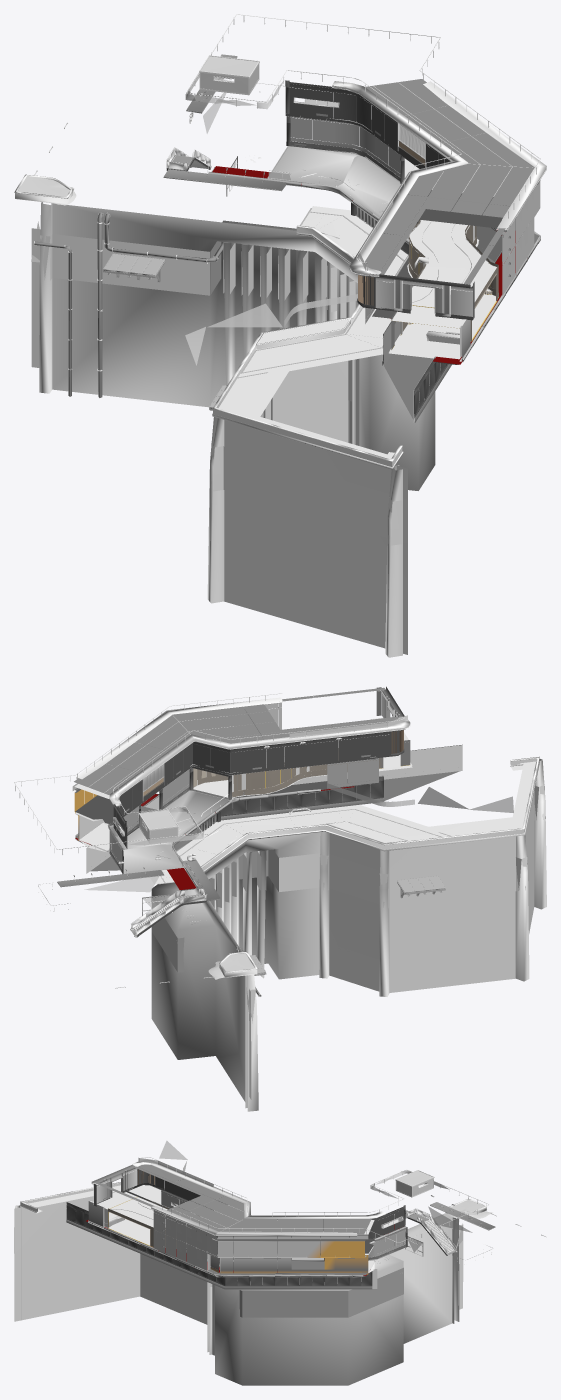
File: cell_82_54.fbx
The picture shows the model from 3 angles, top to bottom: view 1: azimuth 30°, elevation 25°; view 2: azimuth 150°, elevation 25°; view 3: azimuth 270°, elevation 25°; orthographic projection. The views are drawn at different scales.
Parts seen in each view (by area): view 1: SM_H_Building_FutureTech_Dock_03a.mo, SM_H_Building_FutureTech_Dock_06a.mo, SM_H_Building_FutureTech_Dock_03_decal.mo, SM_H_Building_FutureTech_Dock_03.mo, SM_H_Building_FutureTech_Dock_06a_InterWall_02.mo, SM_H_Building_FutureTech_Dock_06c.mo, SM_H_Building_FutureTech_Dock_06a_01.mo, SM_H_Building_FutureTech_Dock_Pipe_04.mo, SM_H_Building_FutureTech_Dock_06d.mo, SM_H_Building_FutureTech_Dock_Rail_01.mo, SM_H_Building_FutureTech_Dock_03b.mo, SM_H_Building_FutureTech_Dock_01a.mo (+3 smaller); view 2: SM_H_Building_FutureTech_Dock_03a.mo, SM_H_Building_FutureTech_Dock_06a.mo, SM_H_Building_FutureTech_Dock_03_decal.mo, SM_H_Building_FutureTech_Dock_03.mo, SM_H_Building_FutureTech_Dock_06a_01.mo, SM_H_Building_FutureTech_Dock_06c.mo, SM_H_Building_FutureTech_Dock_06a_InterWall_02.mo, SM_H_Building_FutureTech_Dock_Rail_01.mo, SM_H_Building_FutureTech_Dock_06d.mo, SM_H_Building_FutureTech_Dock_06_02.mo, SM_H_Building_FutureTech_Dock_01a.mo, SM_H_Building_FutureTech_Platform_03.mo.002 (+6 smaller); view 3: SM_H_Building_FutureTech_Dock_03a.mo, SM_H_Building_FutureTech_Dock_06a.mo, SM_H_Building_FutureTech_Dock_03_decal.mo, SM_H_Building_FutureTech_Dock_06a_01.mo, SM_H_Building_FutureTech_Dock_06a_InterWall_02.mo, SM_H_Building_FutureTech_Dock_03.mo, SM_H_Building_FutureTech_Dock_Rail_01.mo, SM_H_Building_FutureTech_Dock_06d.mo, SM_H_Building_FutureTech_Dock_06_02.mo, SM_H_Building_FutureTech_Dock_06_04.mo, SM_H_Building_FutureTech_Dock_01a.mo, SM_H_Building_FutureTech_Dock_06_Glass_01.mo (+1 smaller).
Part boxes in pixels (left/top/right/bottom): SM_H_Building_FutureTech_Dock_03a.mo: left=31, top=202, right=435, bottom=657; SM_H_Building_FutureTech_Dock_06a.mo: left=285, top=79, right=546, bottom=364; SM_H_Building_FutureTech_Dock_03_decal.mo: left=31, top=221, right=407, bottom=545; SM_H_Building_FutureTech_Dock_03.mo: left=212, top=206, right=407, bottom=469; SM_H_Building_FutureTech_Dock_06a_InterWall_02.mo: left=389, top=219, right=498, bottom=359; SM_H_Building_FutureTech_Dock_06c.mo: left=208, top=146, right=477, bottom=282; SM_H_Building_FutureTech_Dock_06a_01.mo: left=351, top=202, right=502, bottom=422; SM_H_Building_FutureTech_Dock_Pipe_04.mo: left=34, top=212, right=223, bottom=397; SM_H_Building_FutureTech_Dock_06d.mo: left=199, top=55, right=259, bottom=95; SM_H_Building_FutureTech_Dock_Rail_01.mo: left=187, top=14, right=540, bottom=270; SM_H_Building_FutureTech_Dock_03b.mo: left=255, top=317, right=351, bottom=349; SM_H_Building_FutureTech_Dock_01a.mo: left=14, top=174, right=73, bottom=204; SM_H_Building_FutureTech_Dock_03a.mo: left=151, top=758, right=546, bottom=1111; SM_H_Building_FutureTech_Dock_06a.mo: left=72, top=686, right=412, bottom=874; SM_H_Building_FutureTech_Dock_03_decal.mo: left=151, top=784, right=545, bottom=1023; SM_H_Building_FutureTech_Dock_03.mo: left=150, top=756, right=539, bottom=884; SM_H_Building_FutureTech_Dock_06a_01.mo: left=86, top=744, right=462, bottom=873; SM_H_Building_FutureTech_Dock_06c.mo: left=107, top=786, right=354, bottom=890; SM_H_Building_FutureTech_Dock_06a_InterWall_02.mo: left=193, top=732, right=412, bottom=798; SM_H_Building_FutureTech_Dock_Rail_01.mo: left=14, top=693, right=404, bottom=866; SM_H_Building_FutureTech_Dock_06d.mo: left=138, top=809, right=178, bottom=843; SM_H_Building_FutureTech_Dock_06_02.mo: left=130, top=894, right=206, bottom=937; SM_H_Building_FutureTech_Dock_01a.mo: left=218, top=951, right=257, bottom=977; SM_H_Building_FutureTech_Platform_03.mo.002: left=397, top=875, right=445, bottom=898; SM_H_Building_FutureTech_Dock_03a.mo: left=14, top=1192, right=463, bottom=1385; SM_H_Building_FutureTech_Dock_06a.mo: left=86, top=1160, right=407, bottom=1277; SM_H_Building_FutureTech_Dock_03_decal.mo: left=14, top=1223, right=462, bottom=1317; SM_H_Building_FutureTech_Dock_06a_01.mo: left=66, top=1202, right=377, bottom=1289; SM_H_Building_FutureTech_Dock_06a_InterWall_02.mo: left=93, top=1190, right=233, bottom=1260; SM_H_Building_FutureTech_Dock_03.mo: left=19, top=1182, right=191, bottom=1213; SM_H_Building_FutureTech_Dock_Rail_01.mo: left=139, top=1157, right=489, bottom=1245; SM_H_Building_FutureTech_Dock_06d.mo: left=395, top=1170, right=434, bottom=1197; SM_H_Building_FutureTech_Dock_06_02.mo: left=407, top=1213, right=457, bottom=1255; SM_H_Building_FutureTech_Dock_06_04.mo: left=430, top=1202, right=495, bottom=1230; SM_H_Building_FutureTech_Dock_01a.mo: left=445, top=1198, right=487, bottom=1214; SM_H_Building_FutureTech_Dock_06_Glass_01.mo: left=428, top=1206, right=472, bottom=1232.
Size of the model in its own units: 66.83 by 44.35 by 114.
